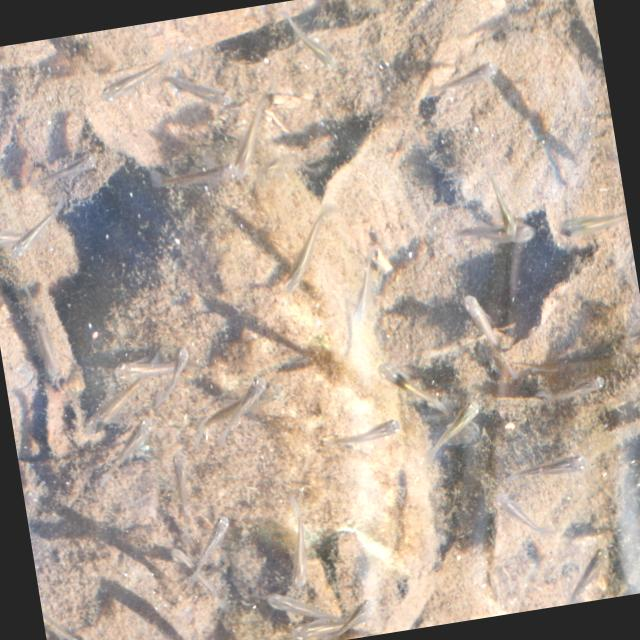Sivrisinek Baligi: (266, 196, 353, 302), (91, 406, 169, 496), (200, 373, 279, 459), (372, 351, 457, 425), (272, 483, 327, 594), (457, 287, 518, 387), (90, 44, 178, 112), (182, 498, 244, 588), (418, 396, 490, 472), (424, 52, 504, 120), (0, 199, 73, 269), (279, 1, 340, 82), (167, 57, 240, 119), (497, 446, 597, 491), (321, 410, 404, 464), (27, 144, 110, 196), (486, 479, 544, 549), (166, 150, 238, 197), (152, 342, 196, 401)
